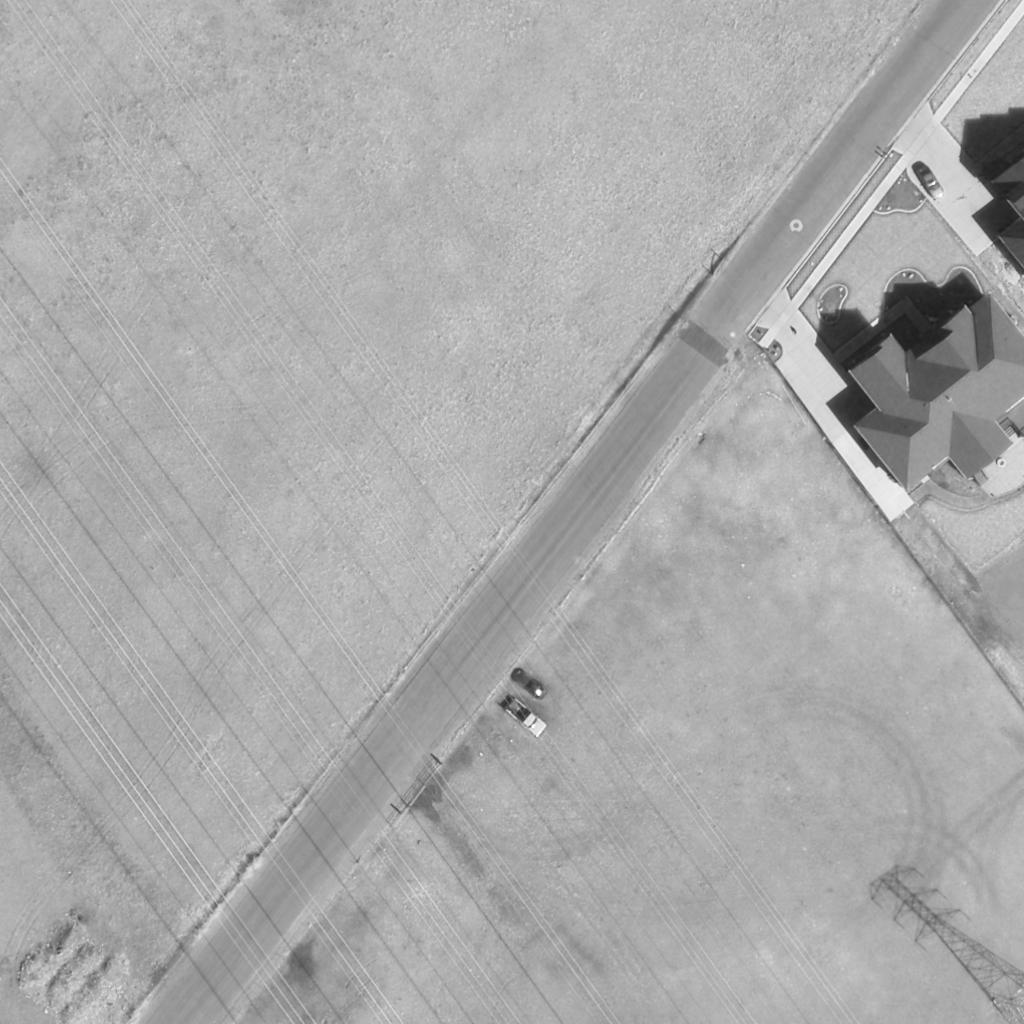vehicle: (505, 699, 547, 737), (513, 669, 549, 701), (915, 164, 947, 200)
